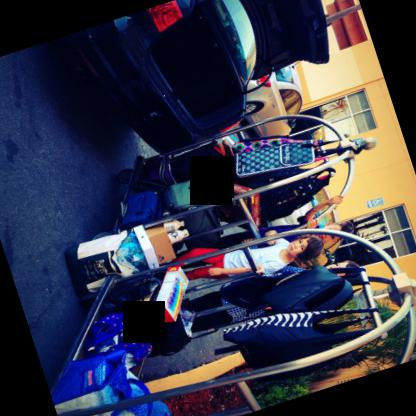backpack: (257, 167, 335, 224), (264, 267, 353, 313), (83, 312, 150, 373), (168, 144, 233, 185), (144, 313, 191, 358)
handbag: (222, 308, 379, 369), (83, 313, 152, 371), (229, 138, 311, 155)
suitcase: (51, 349, 171, 416), (162, 180, 222, 249), (168, 141, 234, 189), (122, 191, 162, 232), (140, 156, 177, 189)
